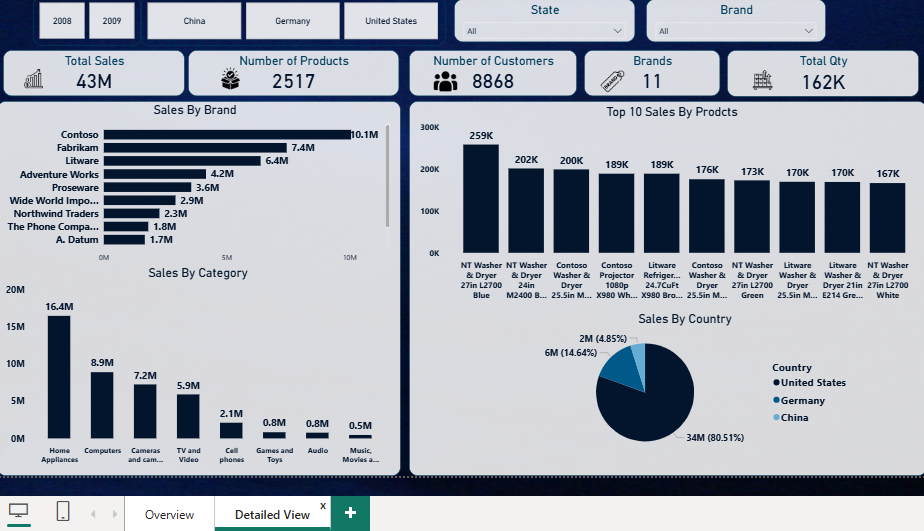

This screenshot's page, from the dashboard's own definition file:
{"tool":"powerbi","page":{"name":"Detailed View","canvas":[1550,800],"ordinal":1},"visuals":[{"type":"card","title":"Total Sales","fields":{"Values":["Sales.Total Sales"]},"box":[10,90,303.3,76.7],"z":0},{"type":"card","title":"Number of Products","fields":{"Values":["CountNonNull(Products.ProductKey)"]},"box":[318.3,90,351.7,76.7],"z":1000},{"type":"card","title":"Number of Customers","fields":{"Values":["Count(Sales.CustomerKey)"]},"box":[686.7,90,280,76.7],"z":2000},{"type":"card","title":"Brands","fields":{"Values":["Count(Products.Brand)"]},"box":[978.3,90,226.7,76.7],"z":3000},{"type":"image","box":[351.7,113.3,75,48.3],"z":4000},{"type":"image","box":[23.3,116.7,75,41.7],"z":5000},{"type":"image","box":[710,118.3,75,48.3],"z":6000},{"type":"image","box":[988.3,118.3,75,48.3],"z":7000},{"type":"shape","box":[686.7,175,863.3,625],"z":8000},{"type":"shape","box":[0,175,673.3,625],"z":9000},{"type":"pieChart","title":"Sales By Country","fields":{"Y":["Sales.Total Sales"],"Category":["Country.CountryRegion"]},"box":[863.3,526.7,566.7,245],"z":10000},{"type":"clusteredColumnChart","title":"Top 10 Sales By Prodcts","fields":{"Category":["Products.Product Name"],"Y":["Sales.Total Sales"]},"box":[700,181.7,850,333.3],"z":11000},{"type":"card","title":"Total Qty","fields":{"Values":["Sum(Sales.Quantity)"]},"box":[1216.3,89.4,320.3,78],"z":13000},{"type":"image","box":[1231.7,118.3,88.3,43.3],"z":14000},{"type":"advancedSlicerVisual","fields":{"Values":["Country.CountryRegion"]},"box":[240,0,508.3,83.3],"z":15000},{"type":"slicer","title":"State","fields":{"Values":["Customers.State"]},"box":[761.7,5,301.7,71.7],"z":16000},{"type":"clusteredColumnChart","title":"Sales By Category","fields":{"Category":["Products.Category"],"Y":["Sales.Total Sales"]},"box":[10,450,650,338.3],"z":19000},{"type":"barChart","title":"Sales By Brand","fields":{"Category":["Products.Brand"],"Y":["Sales.Total Sales"]},"box":[0,178.3,660,275],"z":20000},{"type":"slicer","title":"Brand","fields":{"Values":["Products.Brand"]},"box":[1081.7,5,300,71.7],"z":21000},{"type":"advancedSlicerVisual","fields":{"Values":["Year.Year"]},"box":[60.2,0,180.5,82.9],"z":21001}]}

Visuals, with their boxes on the page's 1550x800 design canvas (x1, y1, x2, y2). These are canvas units, not pixel positions in the 924x531 screenshot, which may show the page scaled, cropped or inside an application window:
"Total Sales" card: x1=10, y1=90, x2=313, y2=167
"Number of Products" card: x1=318, y1=90, x2=670, y2=167
"Number of Customers" card: x1=687, y1=90, x2=967, y2=167
"Brands" card: x1=978, y1=90, x2=1205, y2=167
image: x1=352, y1=113, x2=427, y2=162
image: x1=23, y1=117, x2=98, y2=158
image: x1=710, y1=118, x2=785, y2=167
image: x1=988, y1=118, x2=1063, y2=167
shape: x1=687, y1=175, x2=1550, y2=800
shape: x1=0, y1=175, x2=673, y2=800
"Sales By Country" pieChart: x1=863, y1=527, x2=1430, y2=772
"Top 10 Sales By Prodcts" clusteredColumnChart: x1=700, y1=182, x2=1550, y2=515
"Total Qty" card: x1=1216, y1=89, x2=1537, y2=167
image: x1=1232, y1=118, x2=1320, y2=162
advancedSlicerVisual - Country.CountryRegion: x1=240, y1=0, x2=748, y2=83
"State" slicer: x1=762, y1=5, x2=1063, y2=77
"Sales By Category" clusteredColumnChart: x1=10, y1=450, x2=660, y2=788
"Sales By Brand" barChart: x1=0, y1=178, x2=660, y2=453
"Brand" slicer: x1=1082, y1=5, x2=1382, y2=77
advancedSlicerVisual - Year.Year: x1=60, y1=0, x2=241, y2=83
